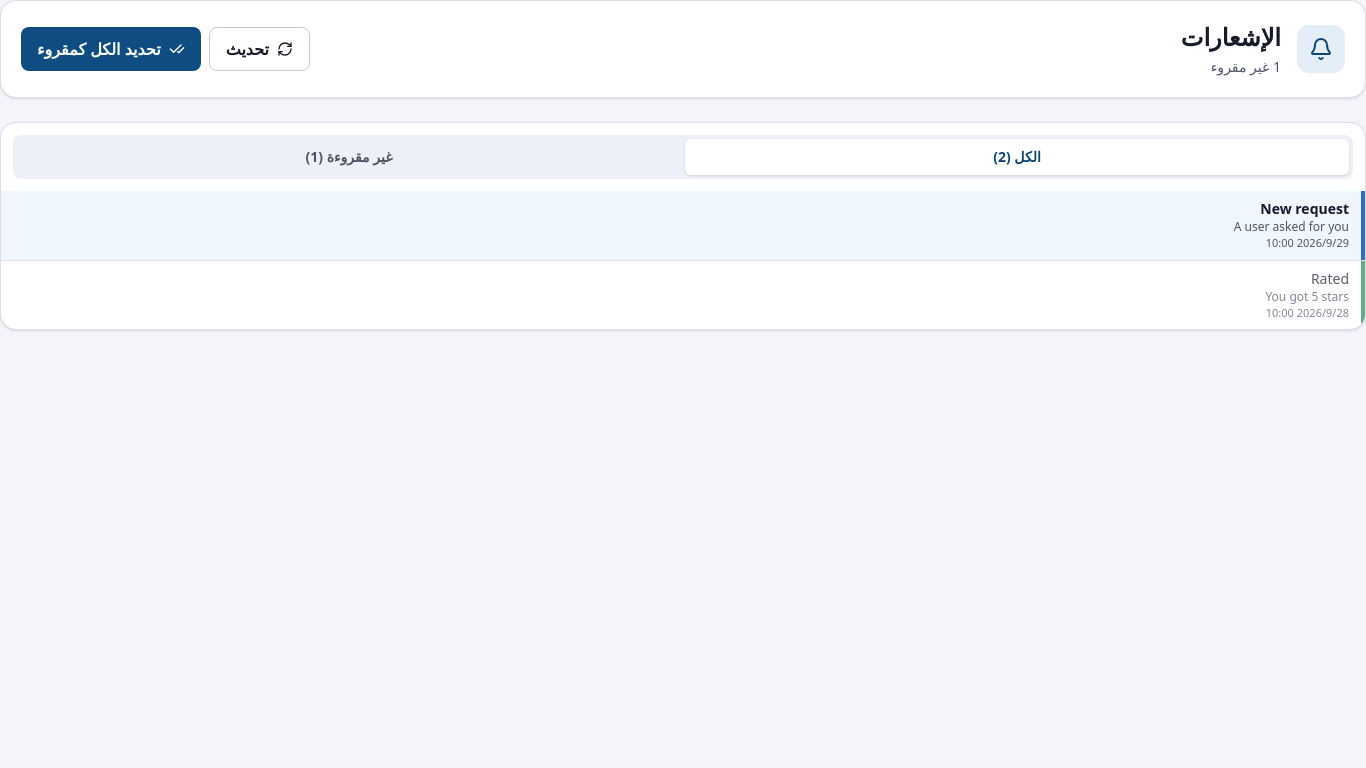
Test: NotificationsPage › shows the full text of a notification without a link
This screenshot has width=1366, height=768.
Click the text "Rated": (1330, 278) [1311,268,1349,288]
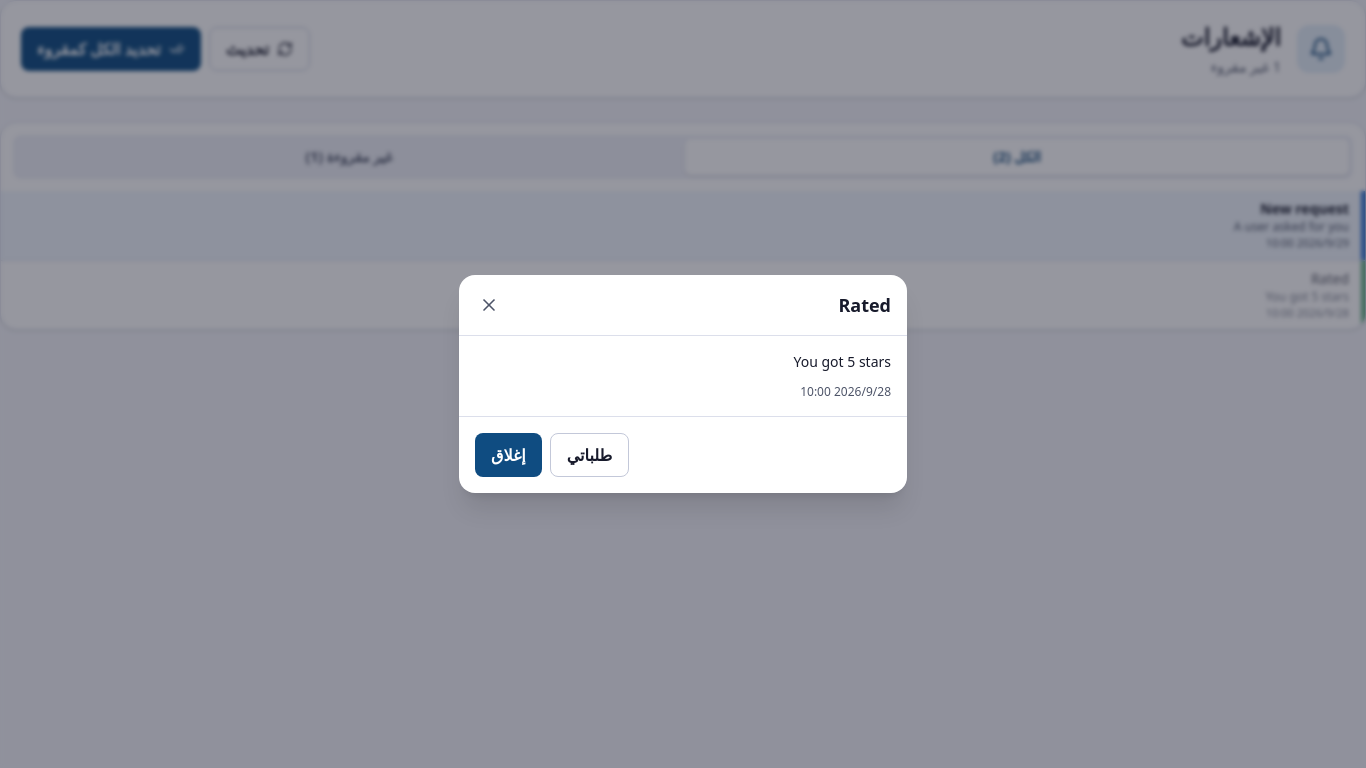
Expected: the dialog is shown, [459,275,907,493]
